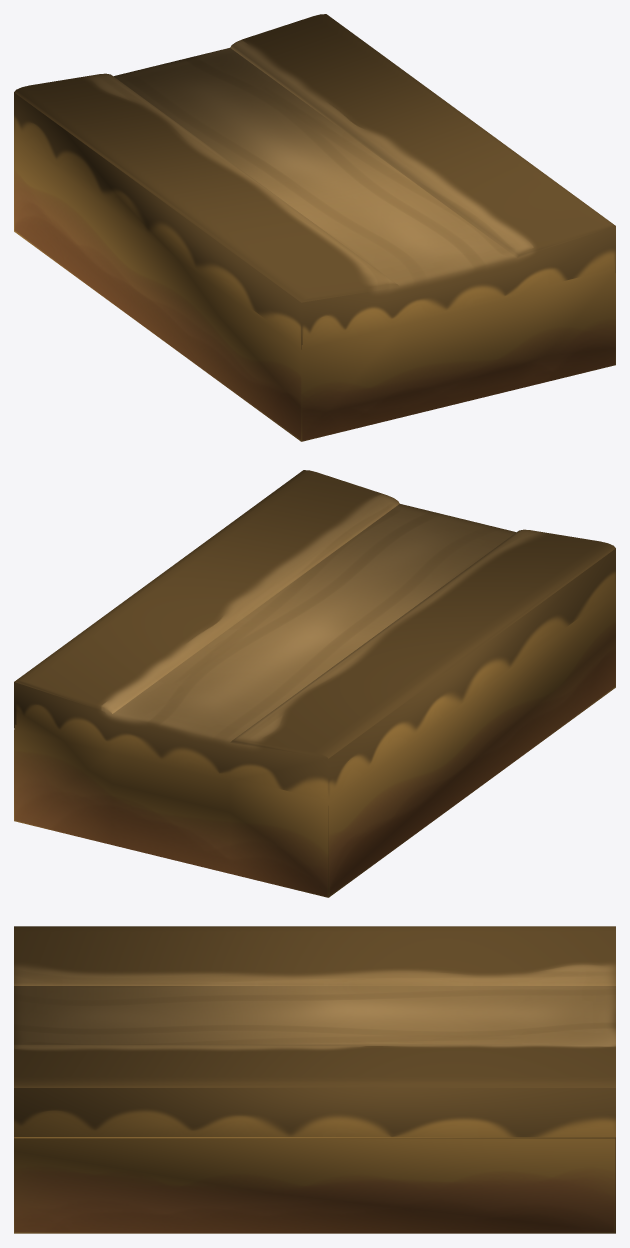
File: plat datar 1.fbx
3 views of the same model, one above another, from view 1: azimuth 30°, elevation 25°; view 2: azimuth 150°, elevation 25°; view 3: azimuth 270°, elevation 25° (orthographic). The views are drawn at different scales.
Visible parts, largest first — view 1: Cube.026; view 2: Cube.026; view 3: Cube.026.
Part boxes in pixels (box(x1,y1,x2,y2)): Cube.026: box(14, 14, 615, 441); Cube.026: box(14, 470, 615, 897); Cube.026: box(14, 926, 615, 1233).
Size of the model in its own units: 1229 by 531 by 1945.
1 material, 1 textured.
